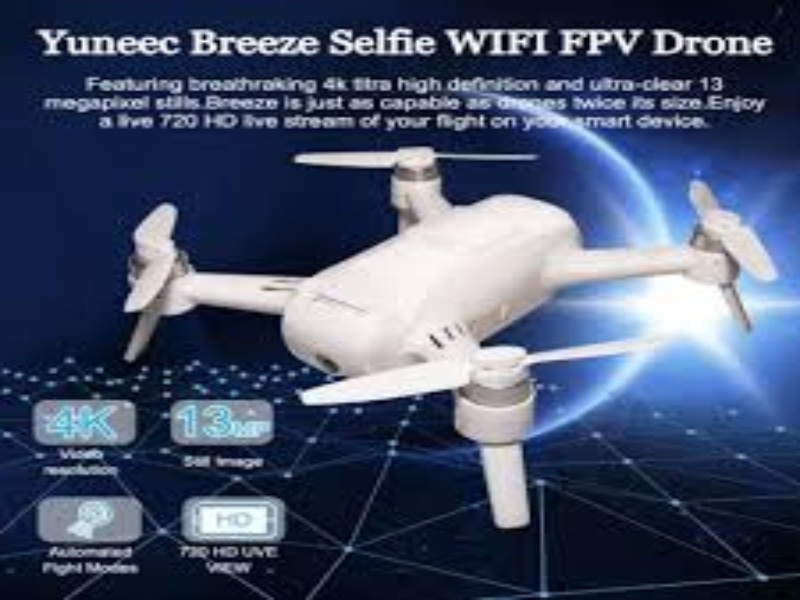drone: (110, 135, 772, 528)
